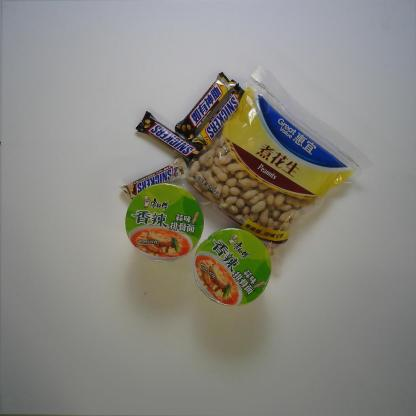Chocolate: (175, 71, 237, 143), (188, 83, 250, 153), (134, 111, 204, 166), (119, 155, 190, 200)
Dried Food: (175, 62, 372, 272)
Instant Noodles: (193, 227, 272, 307), (124, 183, 204, 262)
